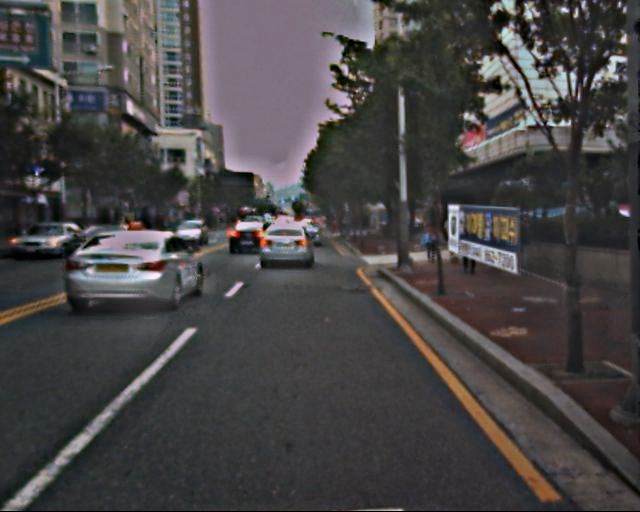person: (507, 214, 533, 278), (460, 220, 484, 278), (421, 220, 440, 266)
